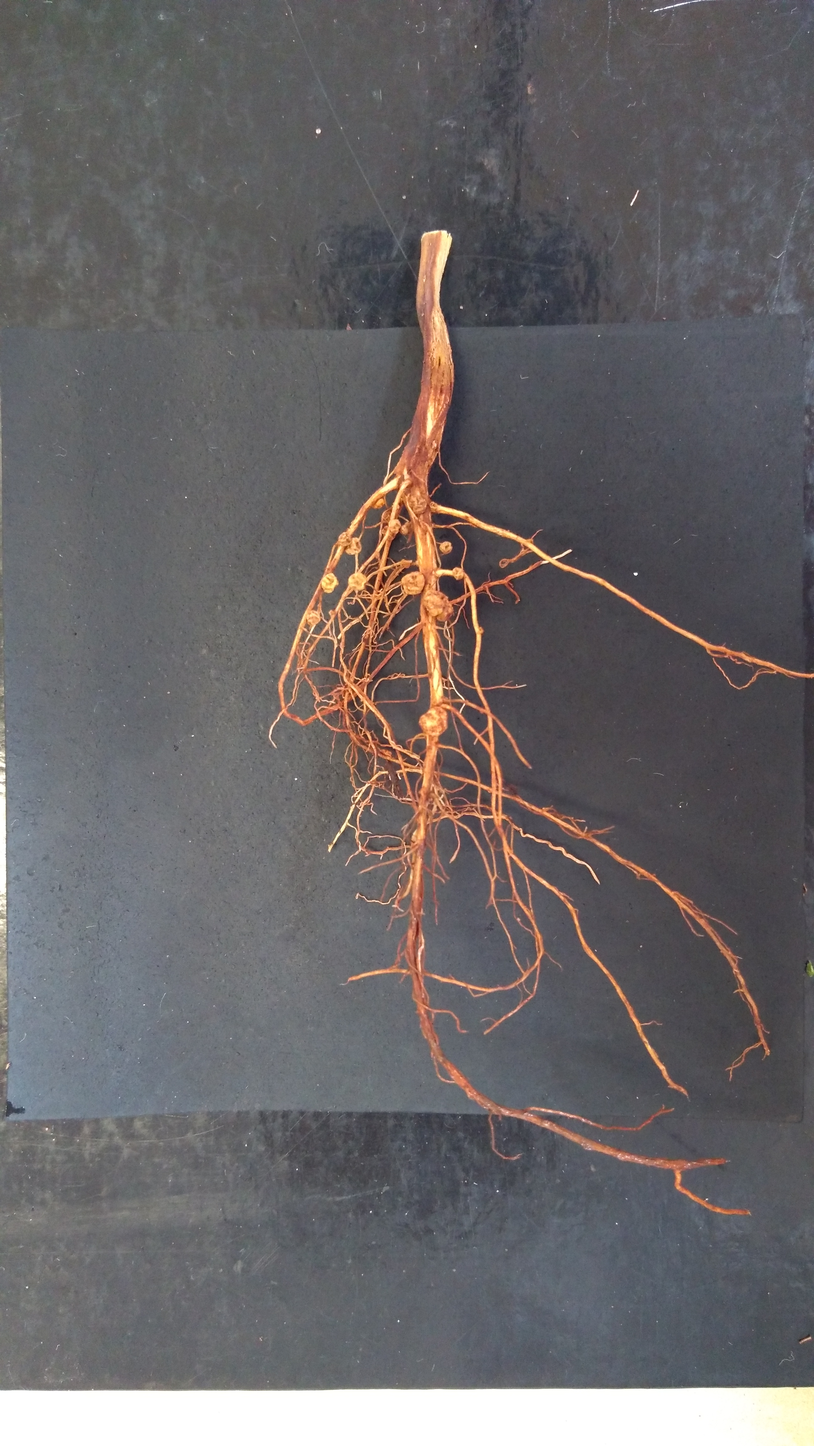nodule: (424, 589, 455, 623), (418, 705, 449, 738), (400, 571, 426, 595), (320, 572, 339, 594), (409, 491, 427, 514), (347, 572, 367, 592), (343, 537, 363, 556), (381, 524, 396, 541), (337, 531, 352, 546), (306, 610, 321, 625), (451, 566, 465, 582), (388, 518, 402, 533), (439, 540, 453, 555), (372, 498, 386, 509), (399, 524, 409, 535), (479, 626, 485, 636)
